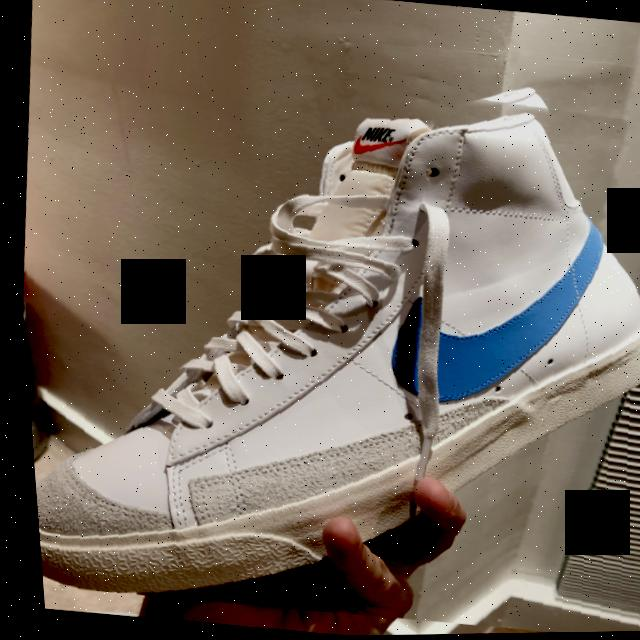shoe: (2, 29, 640, 640)
